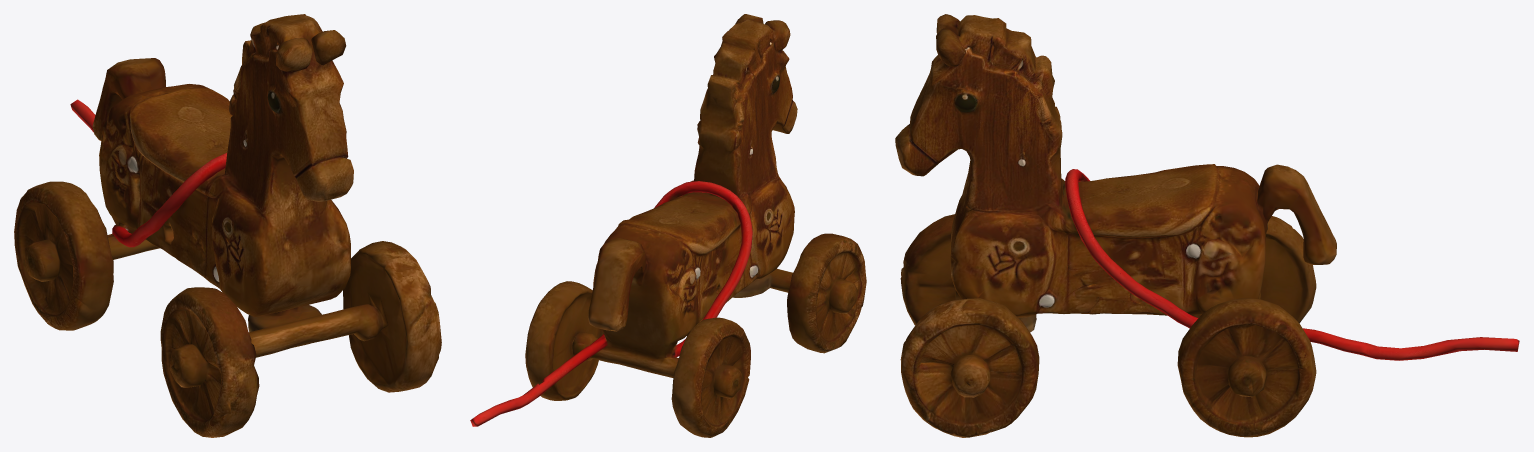
Rendered from wooden-horse-haru.glb.
The picture shows the model from 3 angles, left to right: view 1: azimuth 30°, elevation 25°; view 2: azimuth 150°, elevation 25°; view 3: azimuth 270°, elevation 25°; orthographic projection. The views are drawn at different scales.
Visible parts, largest first — view 1: tripo_node_d001907f-fcf6-499d-8c48-837789e02e18; view 2: tripo_node_d001907f-fcf6-499d-8c48-837789e02e18; view 3: tripo_node_d001907f-fcf6-499d-8c48-837789e02e18.
Part boxes in pixels (x1,y1,x2,y2): tripo_node_d001907f-fcf6-499d-8c48-837789e02e18: [14, 14, 441, 437]; tripo_node_d001907f-fcf6-499d-8c48-837789e02e18: [470, 14, 866, 437]; tripo_node_d001907f-fcf6-499d-8c48-837789e02e18: [895, 14, 1519, 437].
Bounding box in the file's own units: 0.4465 × 0.6507 × 1.
Materials: 1 (1 with a texture image).
